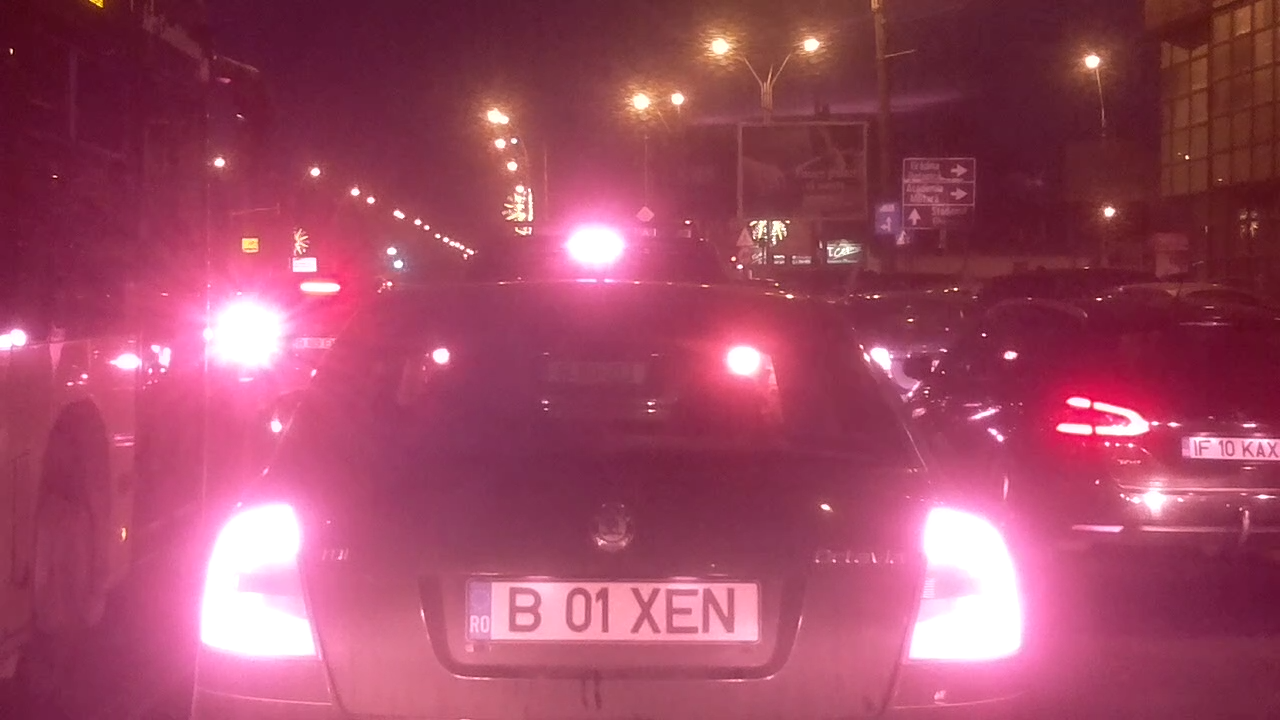license-plate: (459, 572, 768, 648), (1176, 434, 1280, 463)
